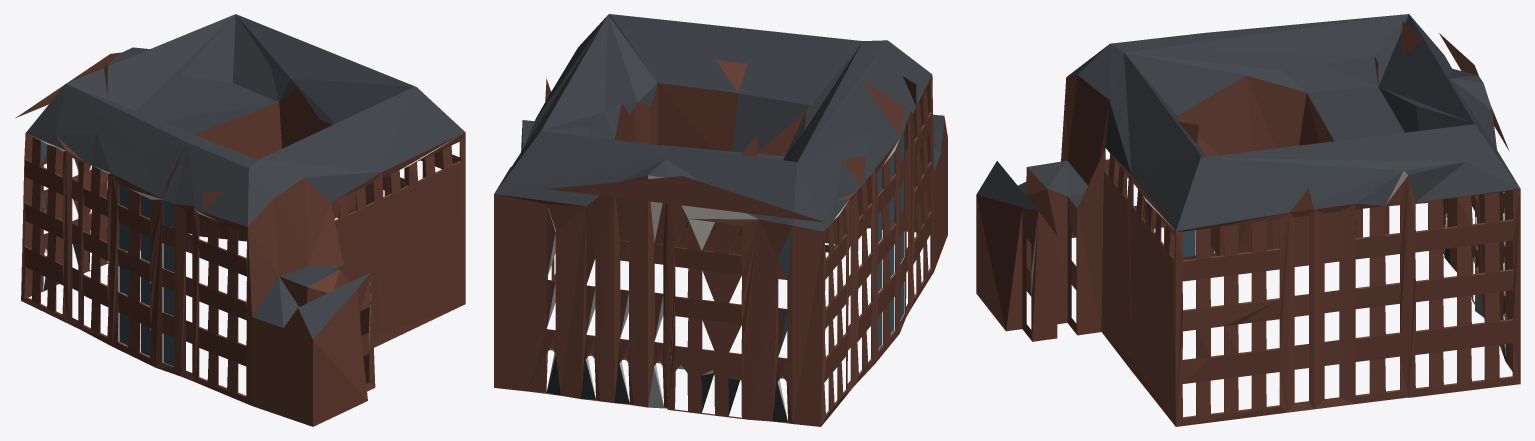
File: maagdenhuis.lod2.glb
3 renders of one model, left to right at view 1: azimuth 30°, elevation 25°; view 2: azimuth 150°, elevation 25°; view 3: azimuth 270°, elevation 25°, orthographic. The views are drawn at different scales.
Parts seen in each view (by area): view 1: lod2; view 2: lod2; view 3: lod2.
Part boxes in pixels (x1,y1,x2,y2): lod2: (15,14,465,426); lod2: (494,14,947,426); lod2: (976,14,1520,426).
Size of the model in its own units: 45.4 by 29.77 by 56.03.
